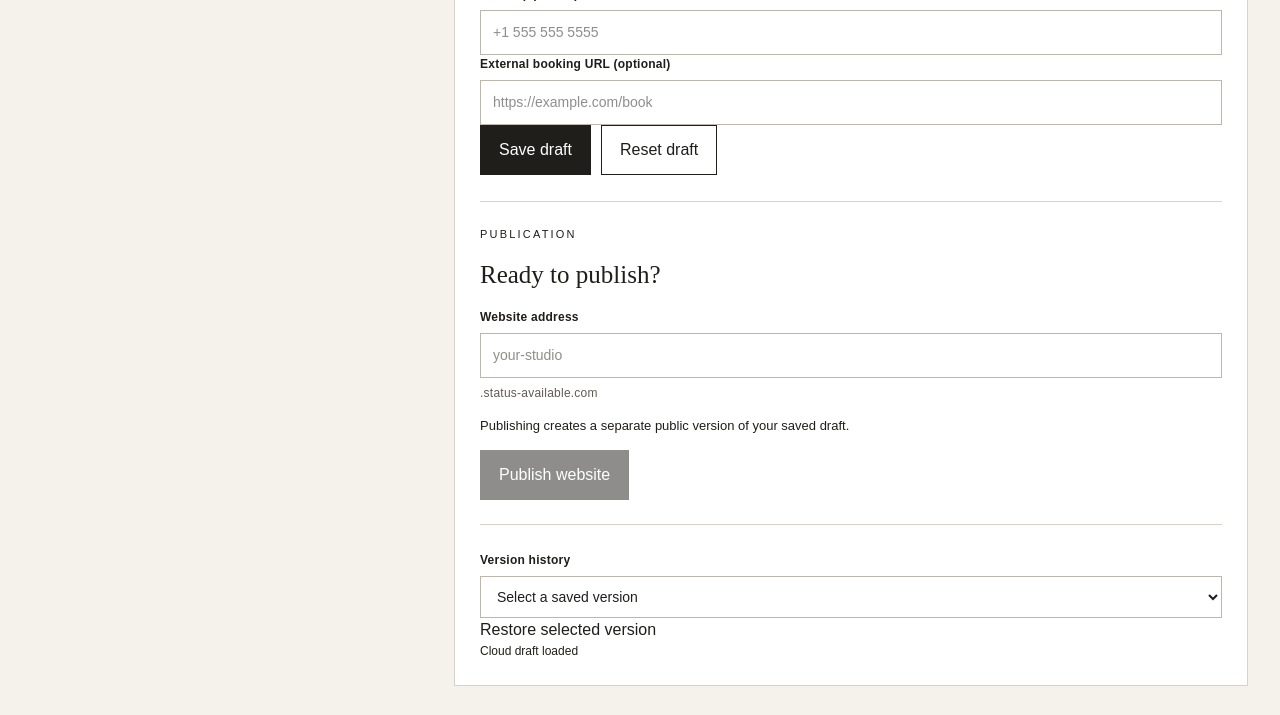
Test: Customer publication interface › updates publication status after success
(page scrolled)
In the field with placeholder "your-studio": (851, 355) left=480, top=333, right=1222, bottom=378, type "example-studio"
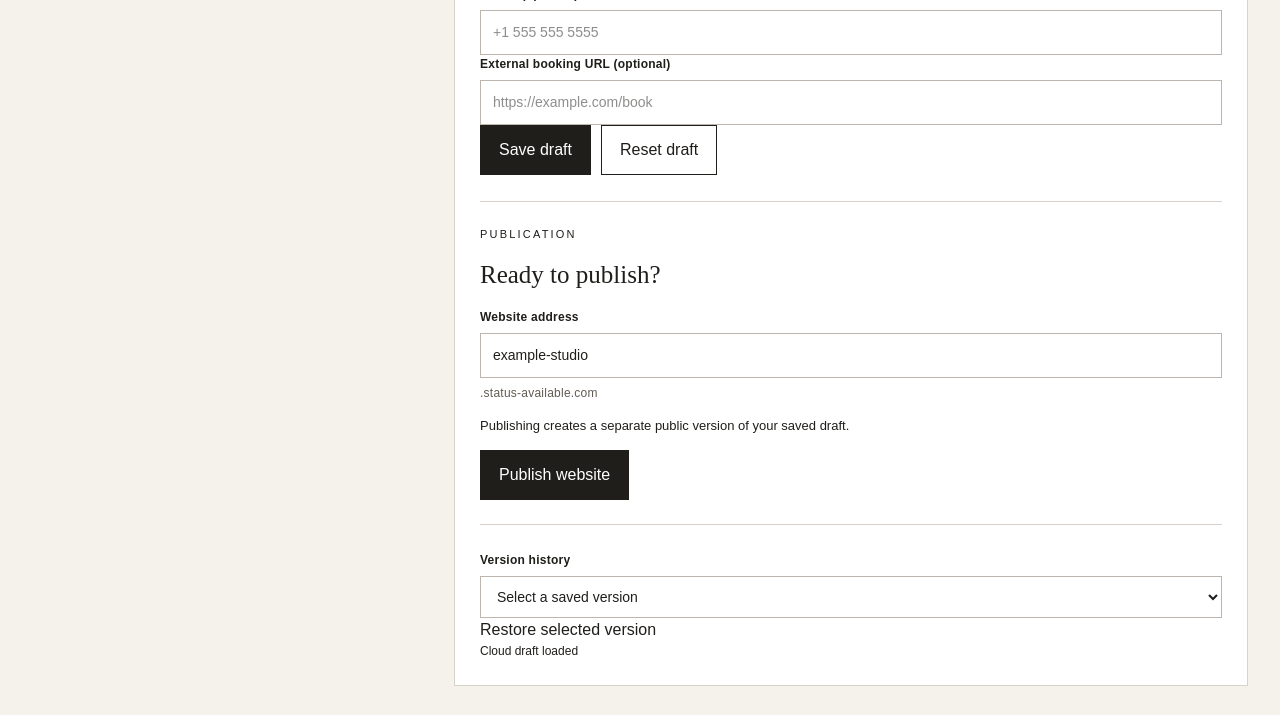
Click the button "Publish website": (555, 475) left=480, top=450, right=629, bottom=500
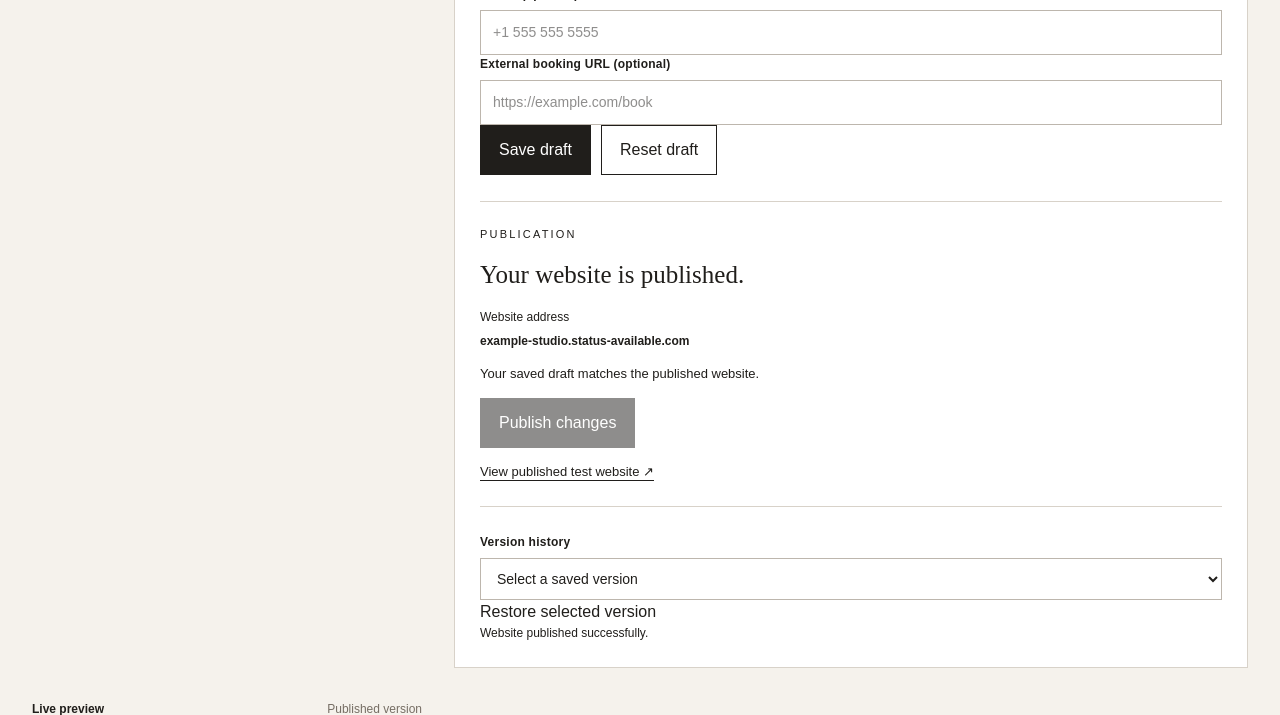
Check: the text "Website published successfully." is shown, box left=480, top=626, right=648, bottom=640
Check: the heading "Your website is published." is shown, box left=480, top=261, right=744, bottom=288
Check: the button "Publish changes" is disabled, box left=480, top=398, right=635, bottom=448
